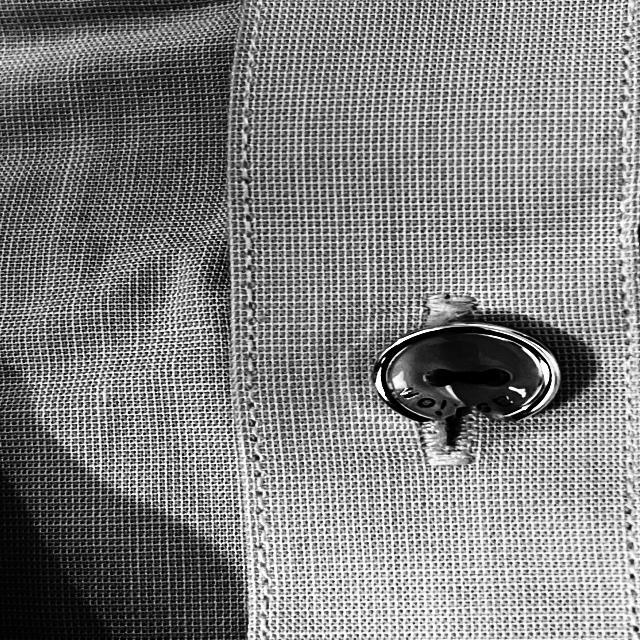Broken_button: (355, 311, 570, 448)
